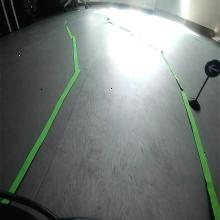left: (205, 58, 220, 78)
